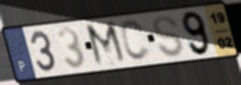3: (58, 25, 86, 72), (29, 29, 57, 74)
9: (179, 10, 214, 57)
C: (118, 18, 153, 63)
M: (83, 20, 130, 69)
S: (152, 14, 185, 59)
